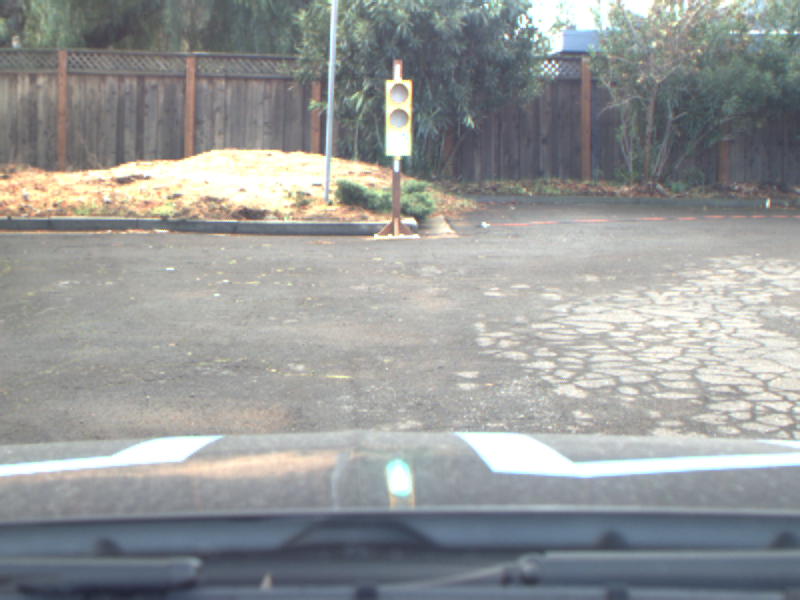Green: (384, 80, 412, 157)
